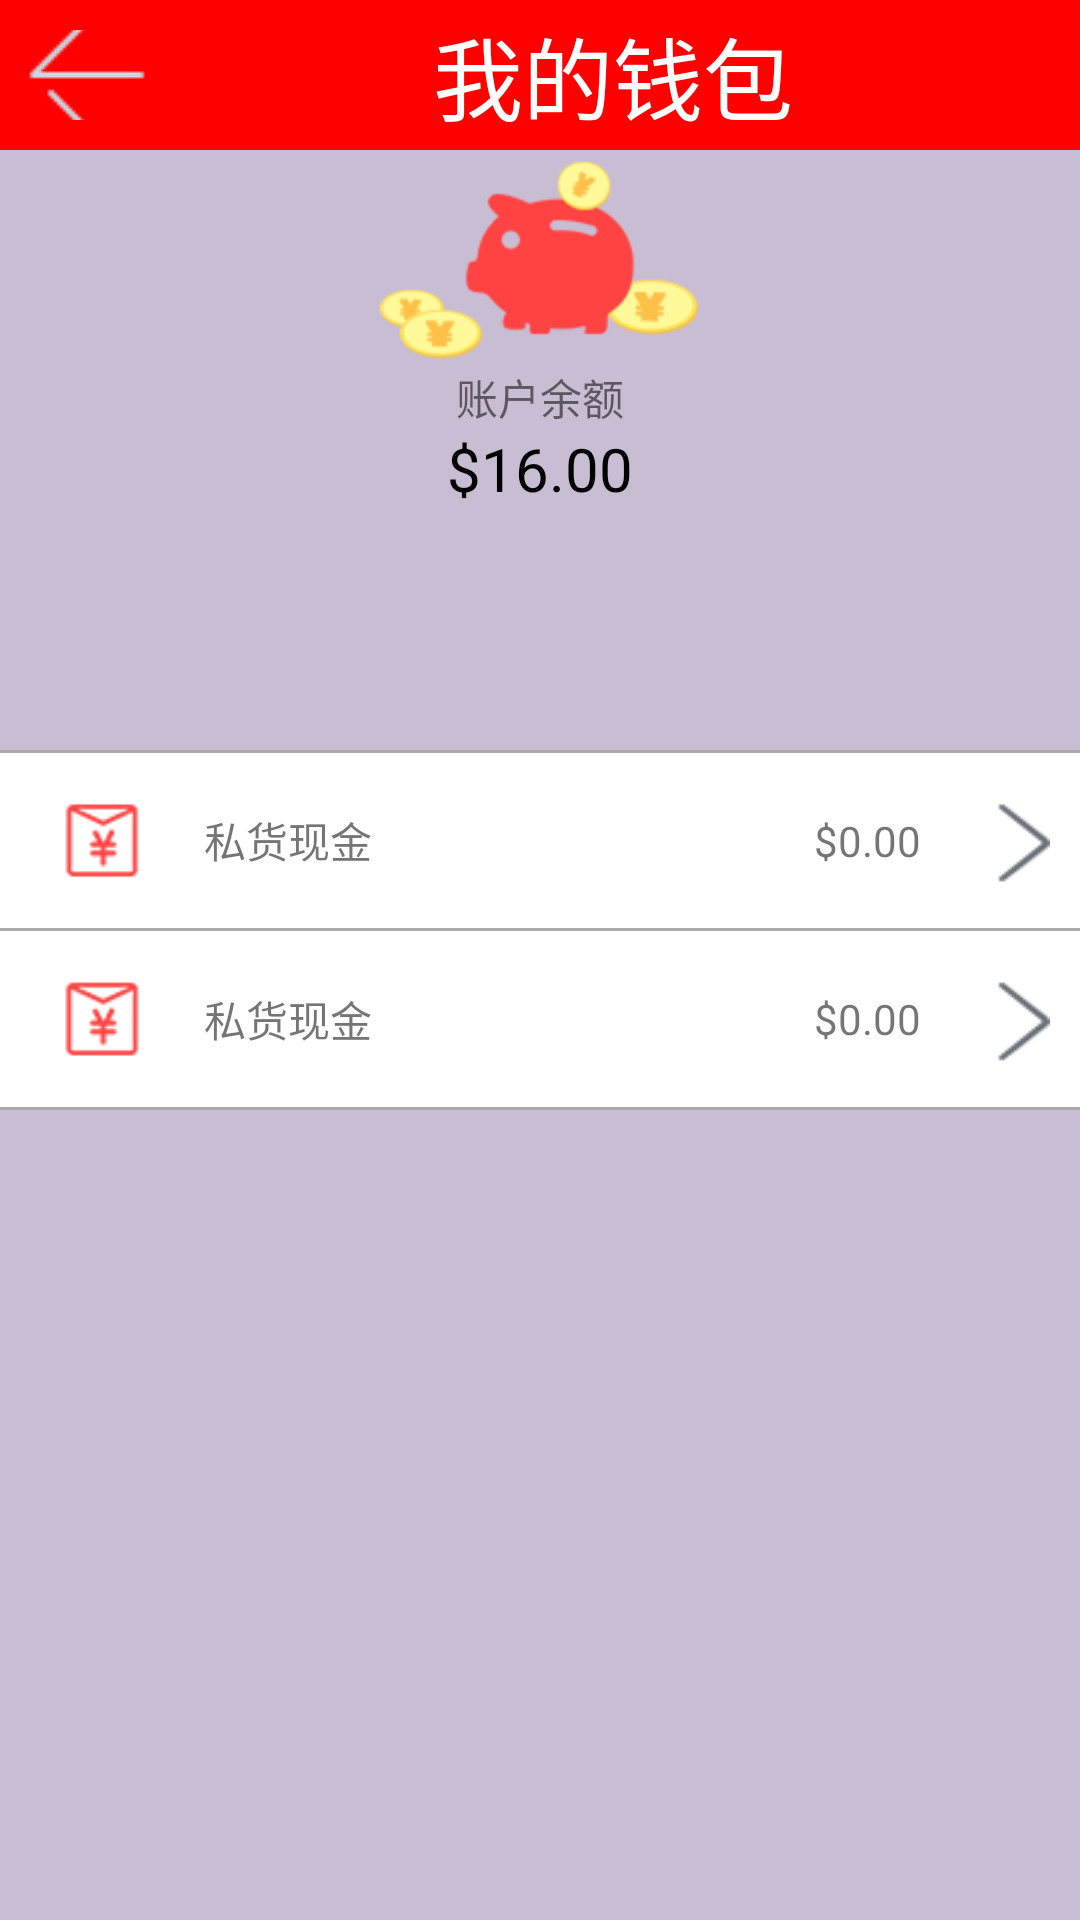

Where to tap for icons on this 1080w x 1920h app screen, as (x=x, y=y):
back on: (x=87, y=75)
hongbao money: (x=102, y=840), (x=102, y=1019)
right arrow: (x=1024, y=843), (x=1024, y=1021)
